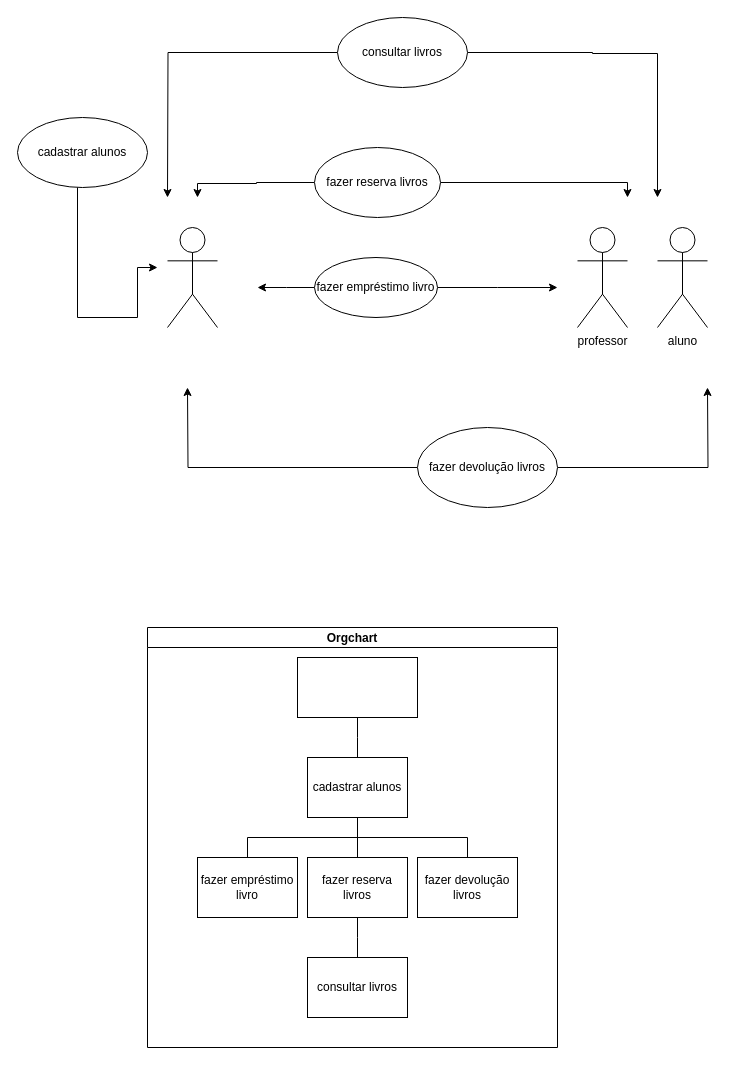
Some shapes in this 734 by 1065 pixel diagram are drawn without their labels. The centre of each missing label's shape, as x and y in pixels:
secretaria escolar: the point at 192,277
sistema escolar: the point at 357,687
